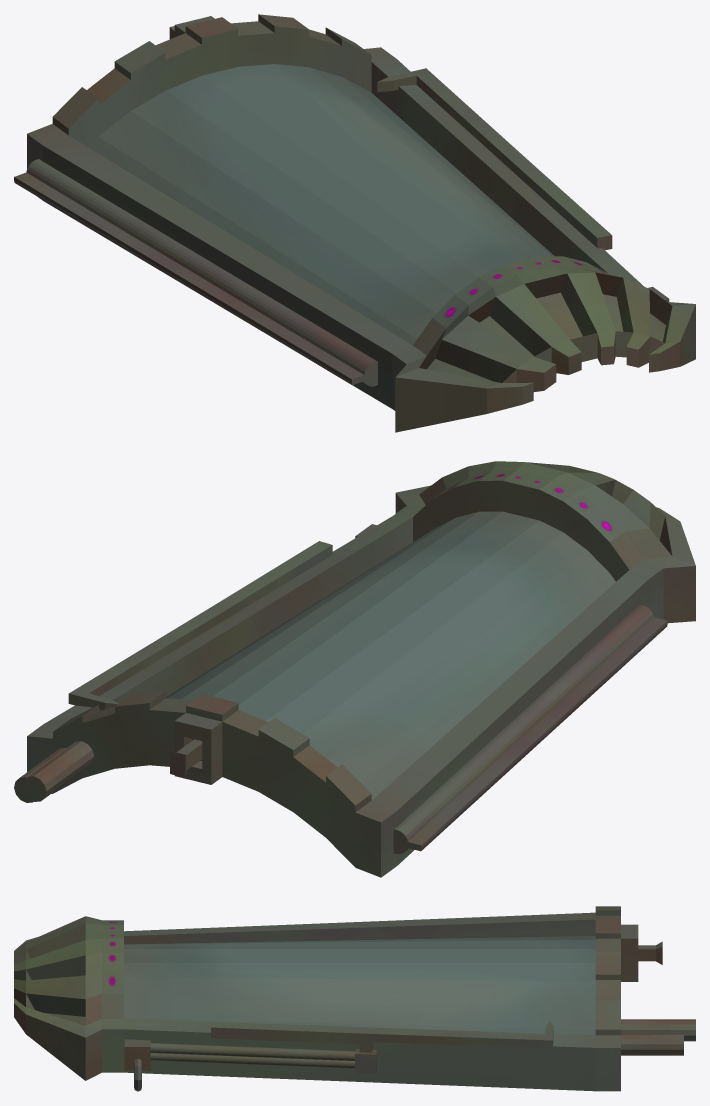
The model's file is WristMonitor.fbx.
The picture shows the model from 3 angles, top to bottom: view 1: azimuth 30°, elevation 25°; view 2: azimuth 150°, elevation 25°; view 3: azimuth 270°, elevation 25°; orthographic projection. The views are drawn at different scales.
Visible parts, largest first — view 1: Plane; view 2: Plane; view 3: Plane.
Part boxes in pixels (bbox=[...]): Plane: bbox=[14, 14, 695, 432]; Plane: bbox=[14, 461, 695, 877]; Plane: bbox=[14, 906, 695, 1091].
Size of the model in its own units: 190 by 66.78 by 374.
